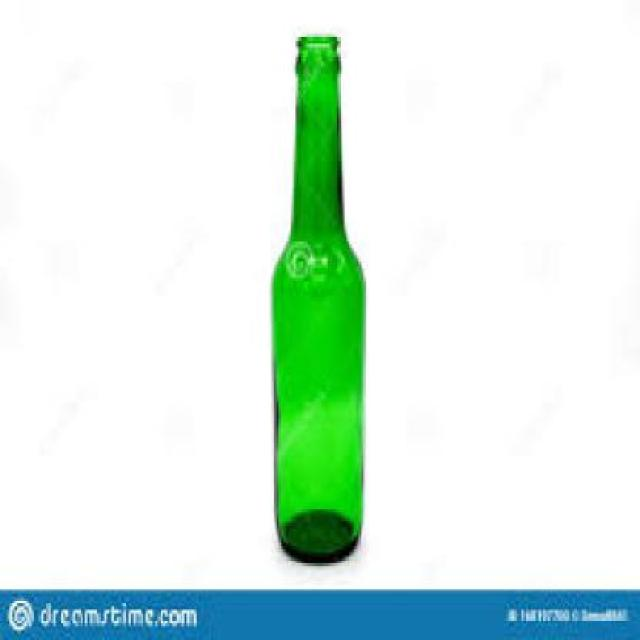kaca: (270, 34, 362, 560)
